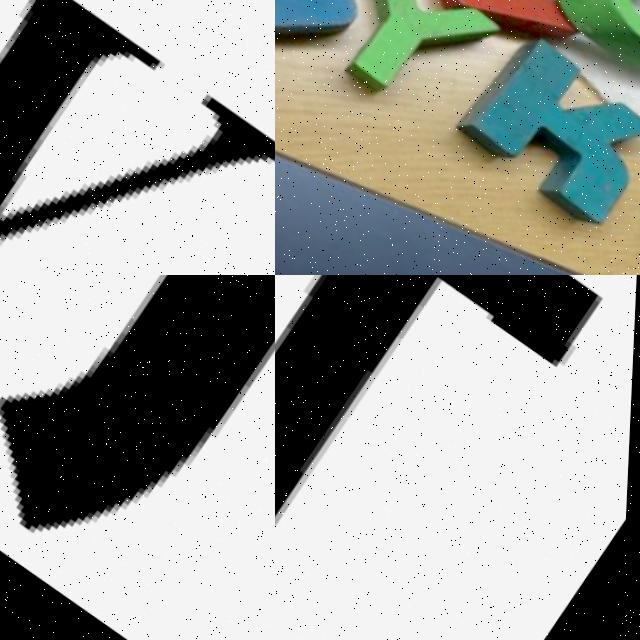C: (496, 0, 640, 86)
E: (337, 0, 618, 58)
J: (0, 275, 275, 608), (275, 0, 402, 82)
K: (443, 7, 640, 217)
T: (275, 275, 625, 640)
W: (0, 0, 275, 275)
Y: (291, 0, 513, 138)
